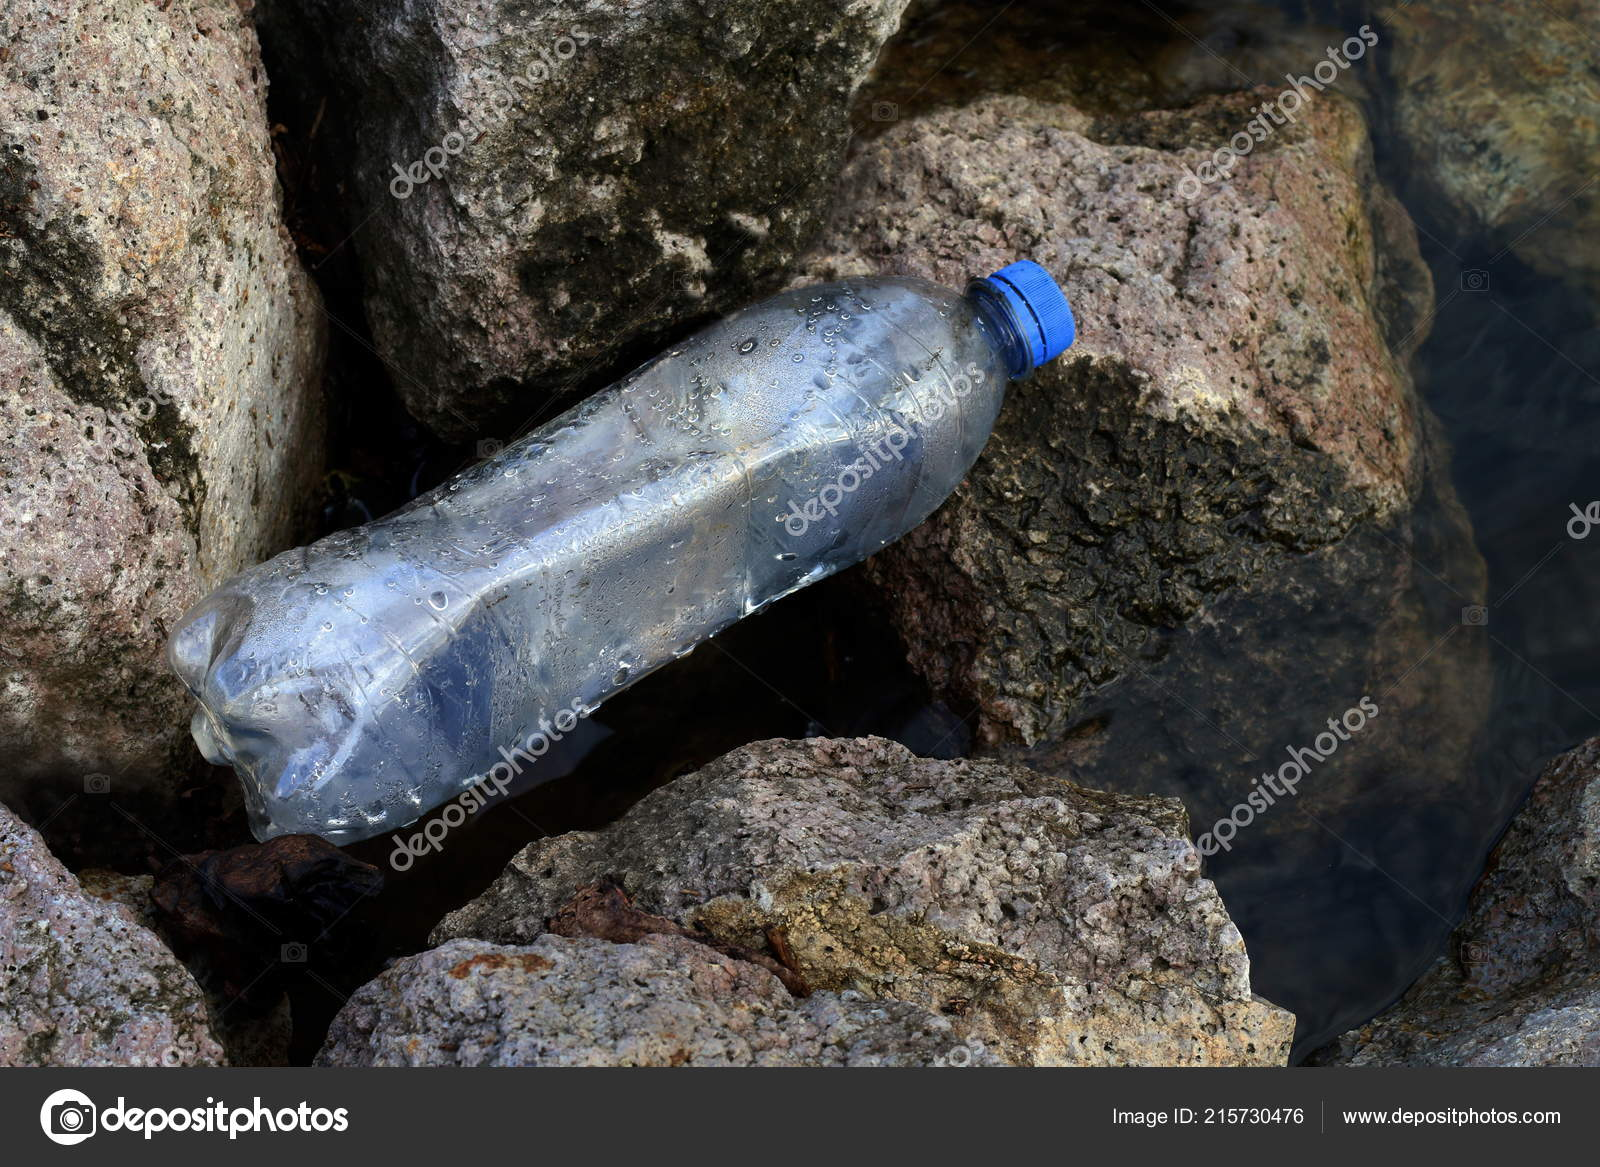plastic_bottle: (124, 96, 1313, 1117)
